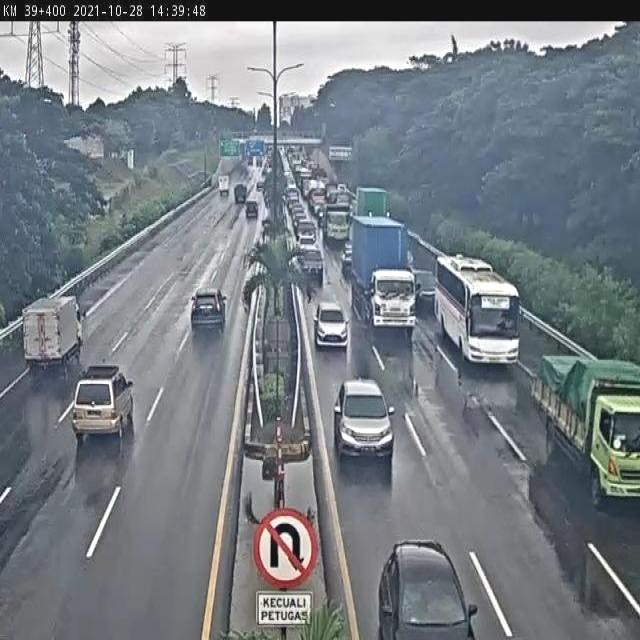Bus: (436, 254, 528, 369)
Car: (377, 538, 478, 638), (68, 362, 140, 448), (333, 376, 396, 468), (190, 287, 226, 337), (312, 307, 351, 350), (294, 245, 322, 282), (416, 272, 437, 306), (340, 242, 352, 277), (246, 200, 258, 219)
Truck: (525, 348, 639, 507), (352, 219, 421, 330), (19, 296, 94, 371), (355, 184, 393, 226), (321, 201, 353, 247), (214, 175, 230, 202)
